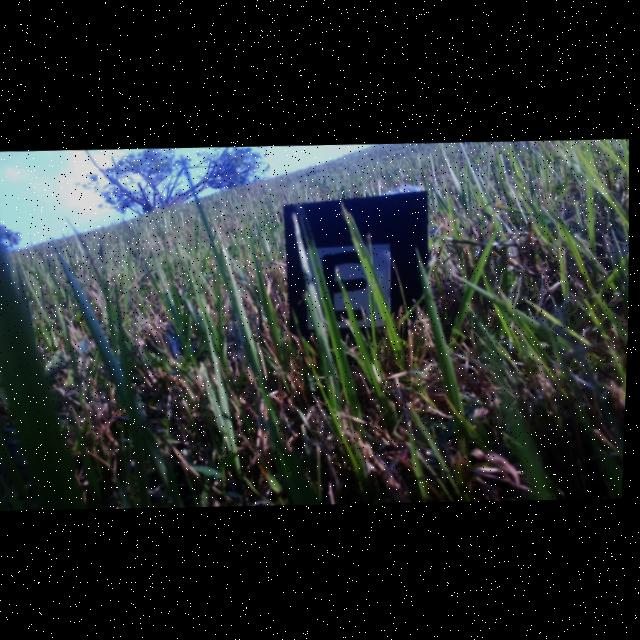E: (323, 247, 371, 322)
